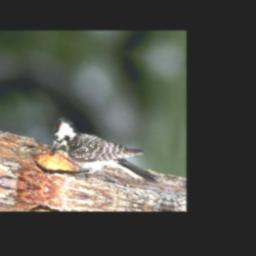Woodpecker: (46, 112, 164, 194)
